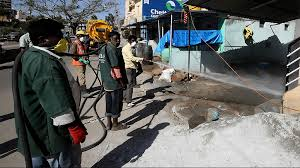mask: (46, 26, 70, 56), (110, 31, 122, 48), (128, 36, 140, 52), (77, 30, 88, 44)
